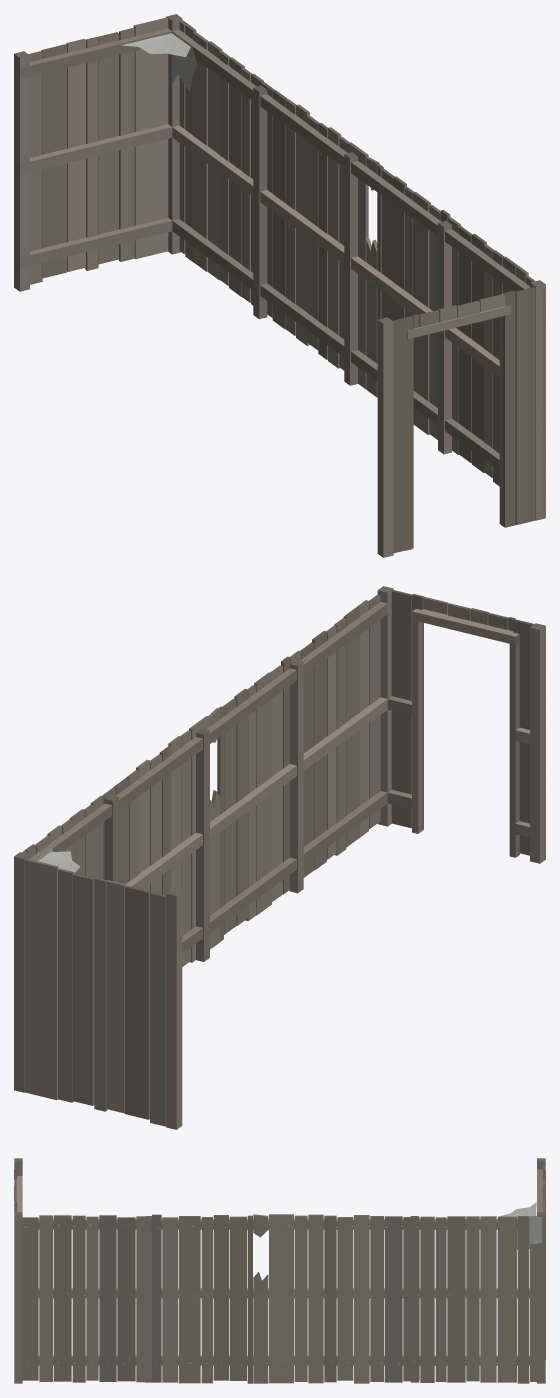
File: prop_cellar_closet.glb
3 renders of one model, top to bottom at view 1: azimuth 30°, elevation 25°; view 2: azimuth 150°, elevation 25°; view 3: azimuth 270°, elevation 25°, orthographic. The views are drawn at different scales.
Parts seen in each view (by area): view 1: CellarCloset; view 2: CellarCloset; view 3: CellarCloset.
Boxes of the visible parts, <box> form: CellarCloset: <box>14,14,545,557</box>; CellarCloset: <box>14,586,545,1129</box>; CellarCloset: <box>14,1158,545,1383</box>.
Size of the model in its own units: 1.61 by 2.2 by 6.31.
